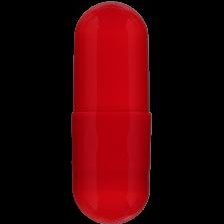0832-2012: (0, 0, 224, 224)
